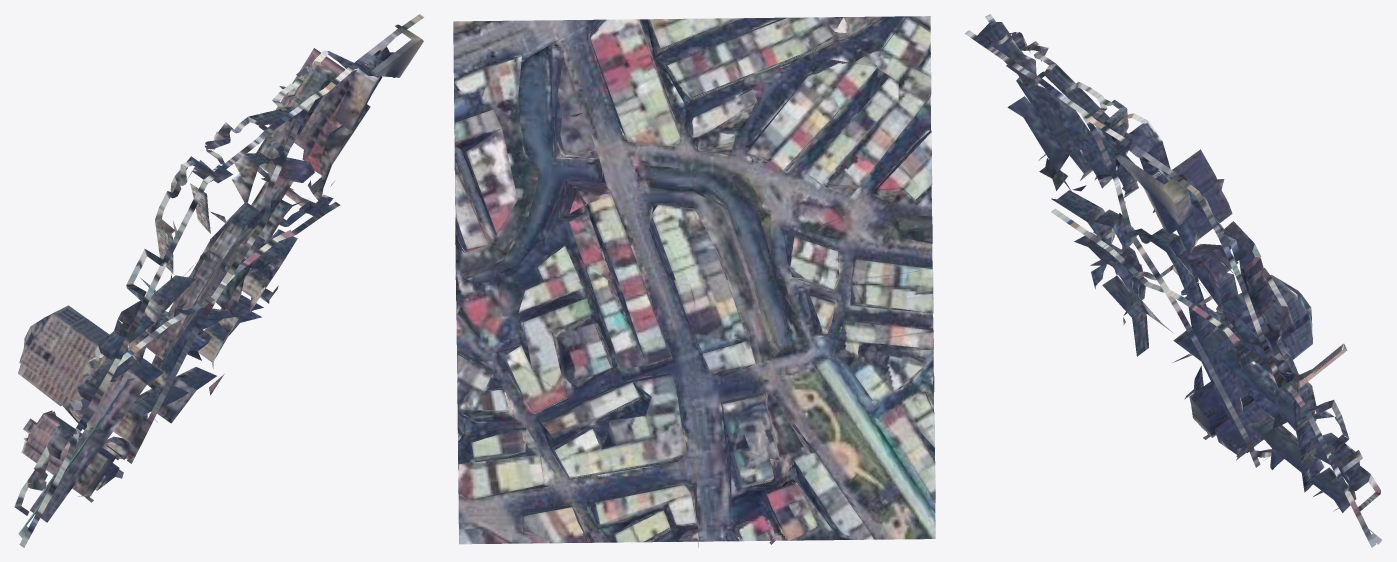
3 views of the same model, side by side, from view 1: azimuth 30°, elevation 25°; view 2: azimuth 150°, elevation 25°; view 3: azimuth 270°, elevation 25° (orthographic). The views are drawn at different scales.
Bounding box in the file's own units: 308 × 289 × 261.
1 material, 1 textured.
